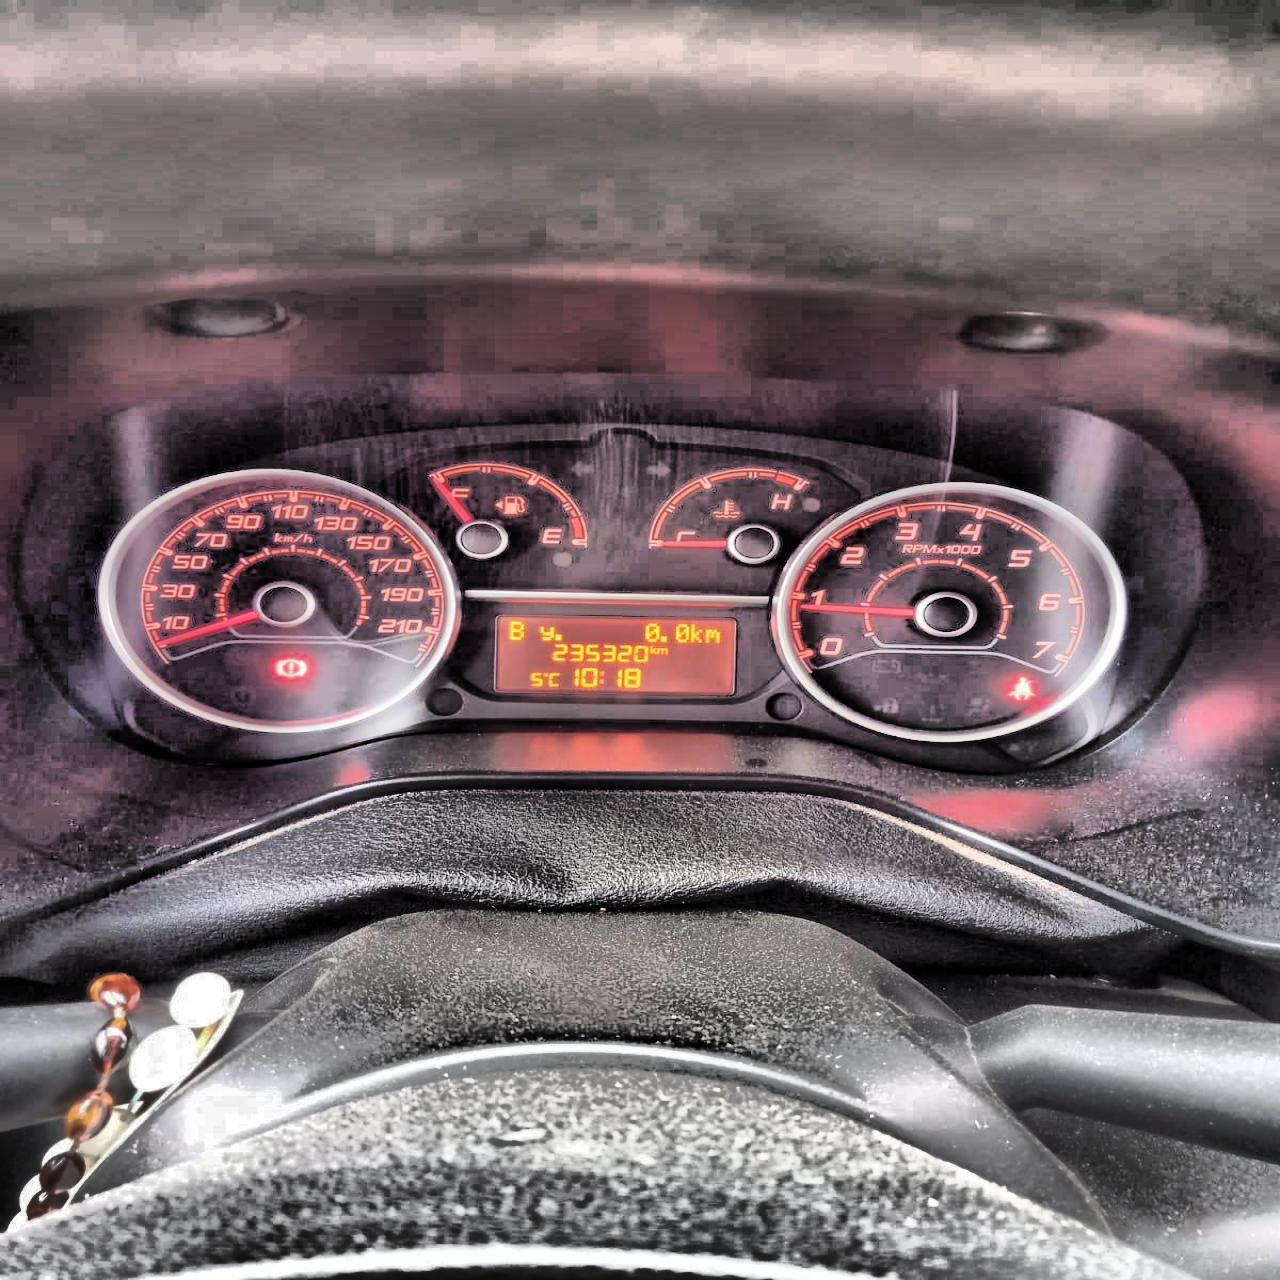-: (659, 634, 667, 641), (553, 633, 561, 640)
0: (580, 667, 598, 687), (674, 622, 689, 642), (632, 645, 648, 662), (644, 622, 659, 641)
1: (572, 667, 579, 686), (615, 667, 621, 687)
2: (551, 644, 567, 662), (617, 644, 632, 662)
3: (568, 644, 584, 661), (600, 645, 615, 662)
5: (585, 644, 599, 661), (529, 672, 543, 686)
8: (622, 667, 641, 687)
X: (506, 620, 524, 640), (689, 622, 703, 644), (703, 628, 721, 644), (538, 626, 553, 640), (546, 672, 560, 687), (656, 647, 668, 655), (648, 646, 656, 655), (598, 670, 604, 683)
odometer: (492, 613, 738, 696)
